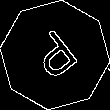P_SE: (25, 24, 85, 86)
